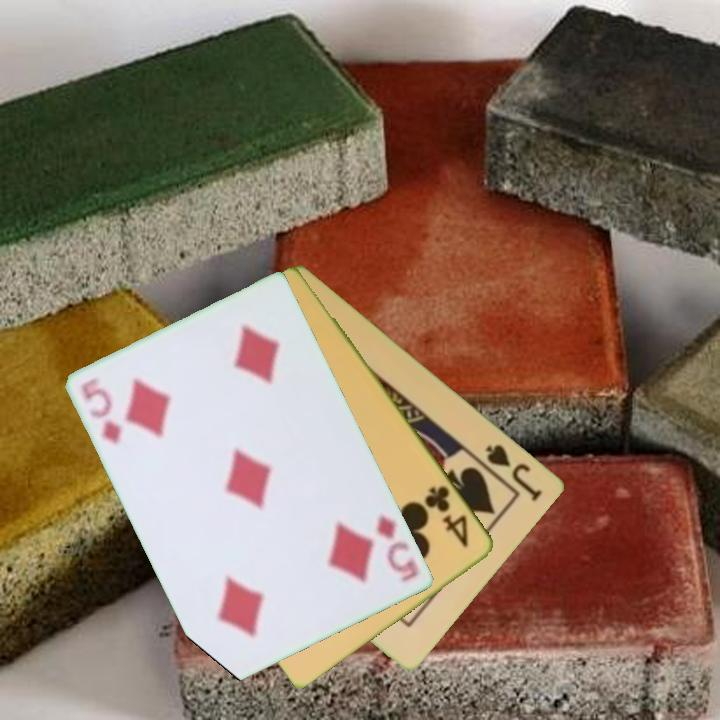4c: (421, 482, 472, 550)
5d: (373, 510, 423, 585), (78, 374, 125, 448)
Js: (482, 440, 546, 504)
